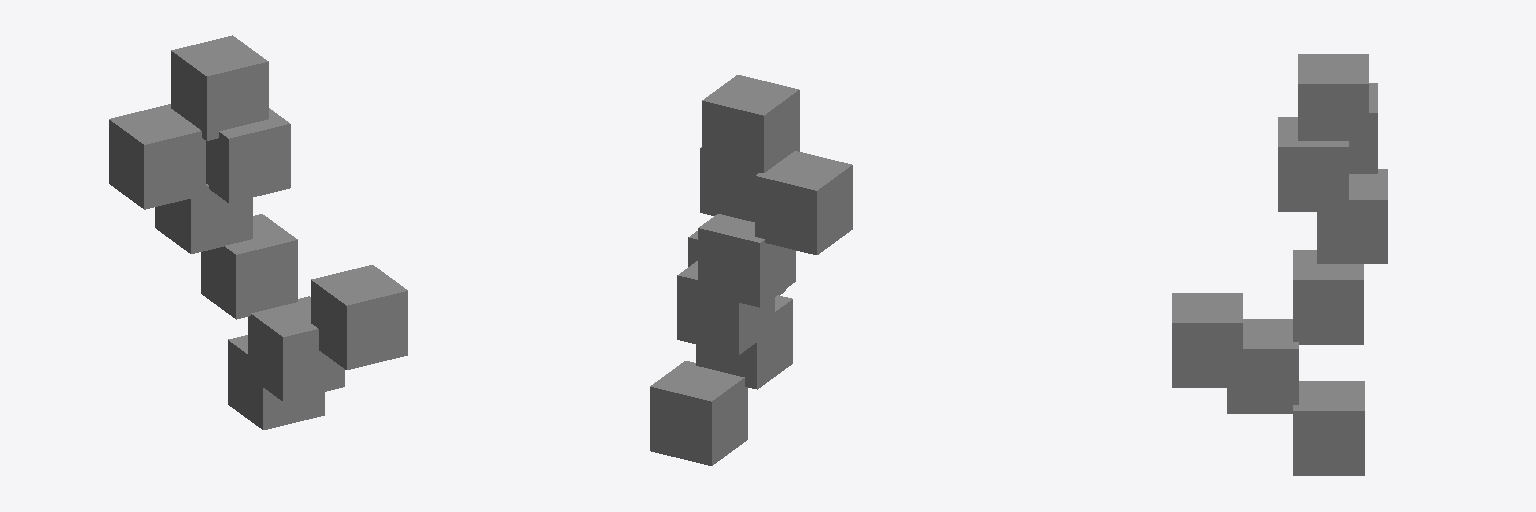
File: Kinect_virtual2.unity_8.obj
3 views of the same model, side by side, from view 1: azimuth 30°, elevation 25°; view 2: azimuth 150°, elevation 25°; view 3: azimuth 270°, elevation 25° (orthographic).
Visible parts, largest first — view 1: Block(Clone); view 2: Block(Clone); view 3: Block(Clone).
Part boxes in pixels (x1,y1,x2,y2): Block(Clone): (109, 35, 407, 429); Block(Clone): (650, 75, 852, 465); Block(Clone): (1172, 54, 1387, 475).
Size of the model in its own units: 1.75 by 3.11 by 1.67.